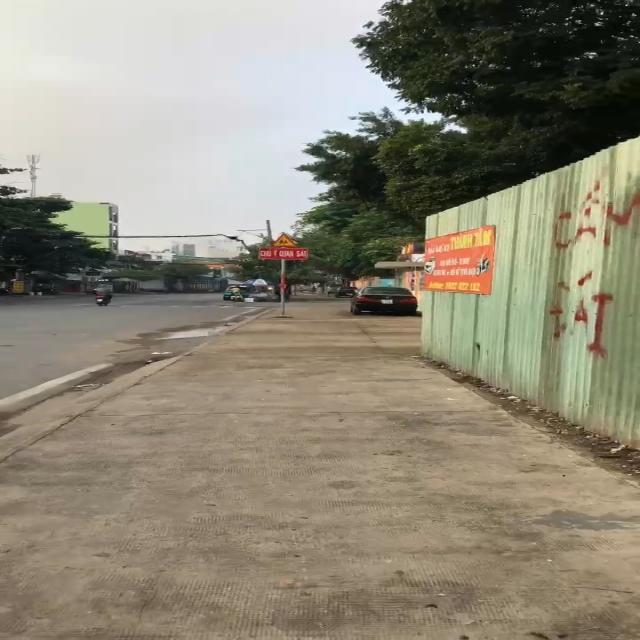Bien bao tre em: (268, 231, 301, 247)
